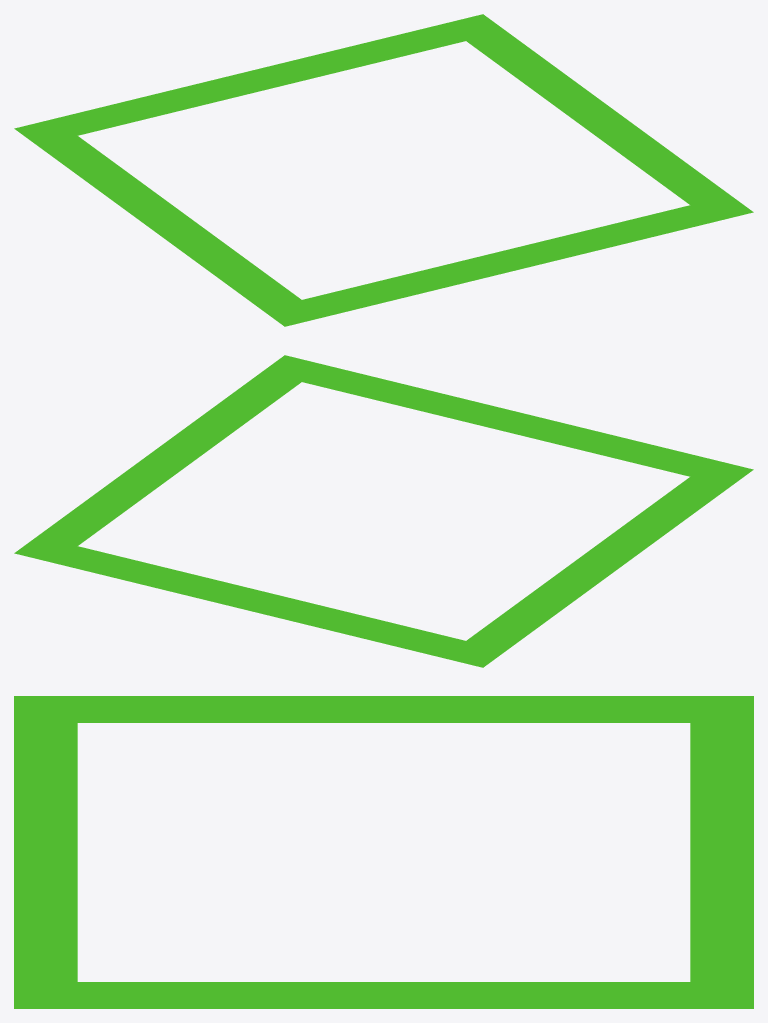
The model's file is cam.fbx.
3 renders of one model, top to bottom at view 1: azimuth 30°, elevation 25°; view 2: azimuth 150°, elevation 25°; view 3: azimuth 270°, elevation 25°, orthographic. The views are drawn at different scales.
Visible parts, largest first — view 1: Cube.001; view 2: Cube.001; view 3: Cube.001.
Boxes of the visible parts, box(x1,y1,x2,y2) form: Cube.001: box(14, 14, 753, 326); Cube.001: box(14, 355, 753, 667); Cube.001: box(14, 696, 753, 1008).
Bounding box in the file's own units: 200 × 3.26e-05 × 200.
